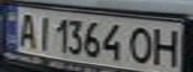1: (51, 16, 72, 54)
3: (66, 17, 84, 56)
4: (100, 20, 127, 62)
6: (81, 19, 103, 58)
A: (12, 10, 39, 49)
H: (148, 25, 187, 68)
I: (33, 12, 54, 51)
O: (124, 25, 160, 65)
